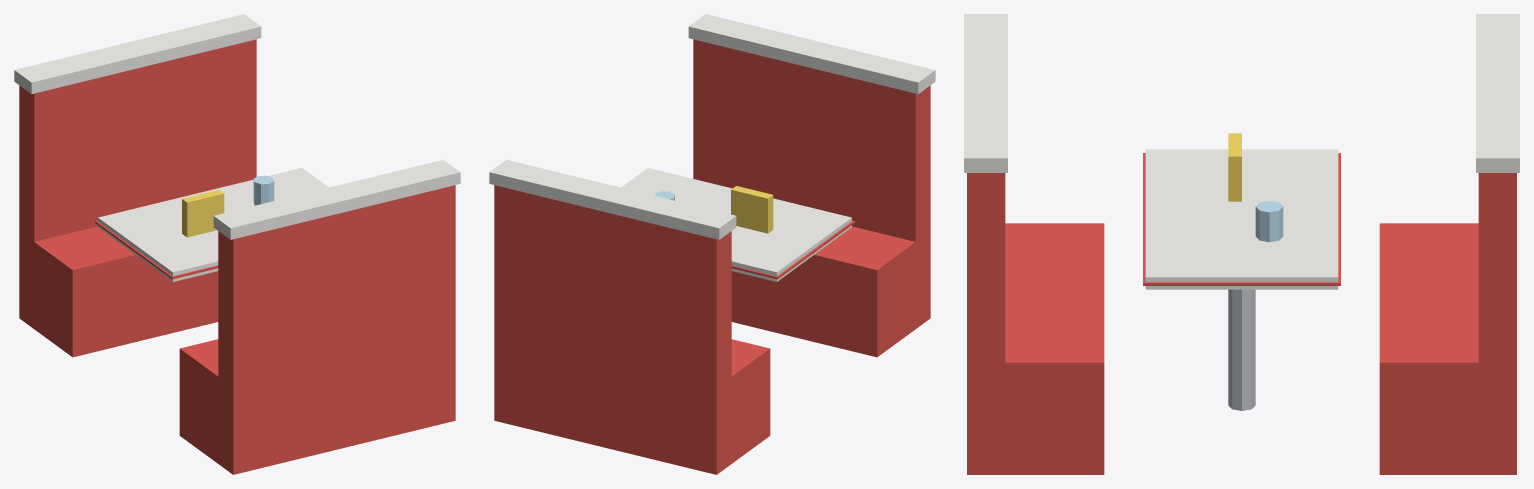
The model's file is diner_booth.glb.
The picture shows the model from 3 angles, left to right: view 1: azimuth 30°, elevation 25°; view 2: azimuth 150°, elevation 25°; view 3: azimuth 270°, elevation 25°; orthographic projection. The views are drawn at different scales.
Parts seen in each view (by area): view 1: diner_booth; view 2: diner_booth; view 3: diner_booth.
Part boxes in pixels (bbox=[...]): diner_booth: bbox=[14, 14, 460, 474]; diner_booth: bbox=[489, 14, 935, 474]; diner_booth: bbox=[964, 14, 1519, 474].
Size of the model in its own units: 1.24 by 1.28 by 2.02.
